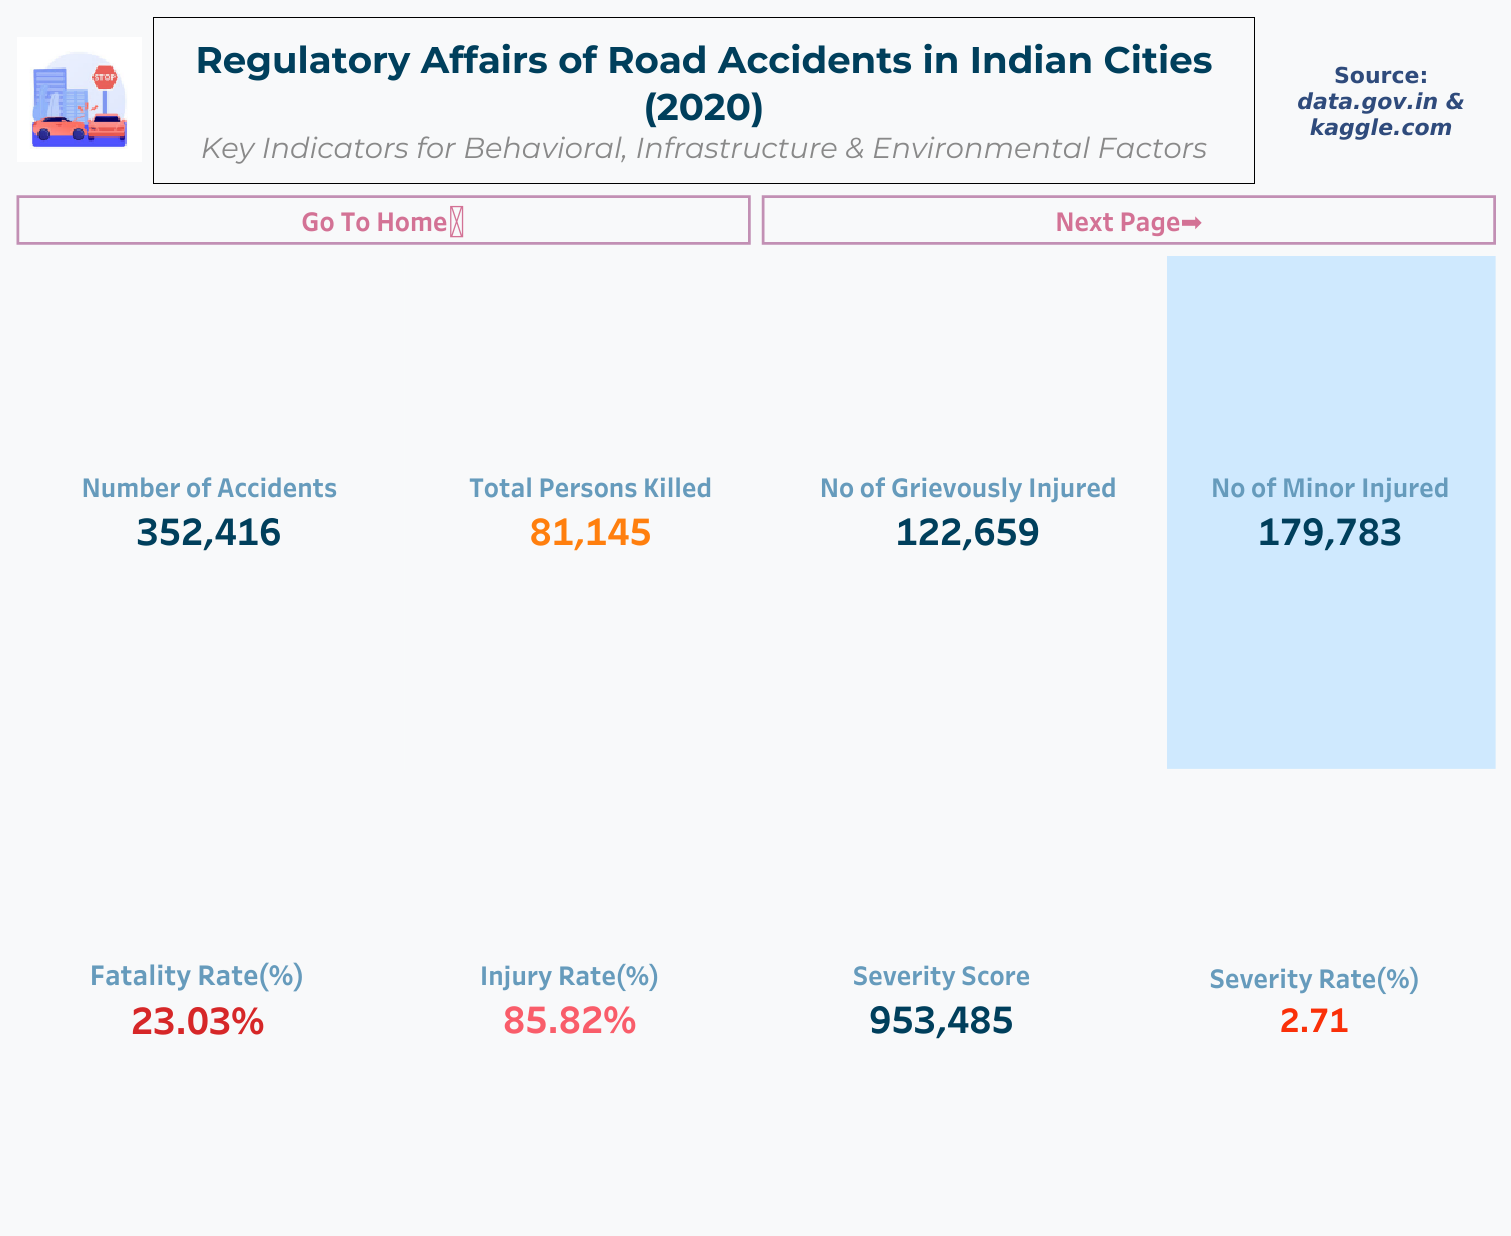

What the dashboard file says about the page in this screenshot:
{"tool":"tableau","page":{"name":"Dashboard: KPIs","canvas":[1100,900],"ordinal":1},"visuals":[{"type":"image","param":"Image/download.jpg","box":[8,8,99,130]},{"type":"text","box":[107,8,810,130]},{"type":"text","box":[917,8,175,130]},{"type":"dashboard-object","box":[8,138,542,44]},{"type":"dashboard-object","box":[550,138,542,44]},{"type":"worksheet","title":"Total no of accidents","mark":"Automatic","box":[8,182,288.8,381]},{"type":"worksheet","title":"Person Killed","mark":"Automatic","box":[296.8,182,266.2,381]},{"type":"worksheet","title":"Greviously Injured","mark":"Automatic","box":[563,182,282,381]},{"type":"worksheet","title":"Minor Injured","mark":"Automatic","box":[845,182,247,381]},{"type":"worksheet","title":"Fatality Rate","mark":"Automatic","box":[8,563,271,329]},{"type":"worksheet","title":"Injury Rate (%)","mark":"Automatic","box":[279,563,271,329]},{"type":"worksheet","title":"Severity Score","mark":"Automatic","box":[550,563,271,329]},{"type":"worksheet","title":"Severity Rate","mark":"Automatic","box":[821,563,271,329]}]}

Visuals, with their boxes in screenshot pixels (x1, y1, x2, y2), scaled from the page's 1100x900 canvas onto the 1511x1236 screenshot:
image: bbox=[11, 11, 147, 190]
text: bbox=[147, 11, 1260, 190]
text: bbox=[1260, 11, 1500, 190]
dashboard-object: bbox=[11, 190, 756, 250]
dashboard-object: bbox=[756, 190, 1500, 250]
"Total no of accidents" worksheet: bbox=[11, 250, 408, 773]
"Person Killed" worksheet: bbox=[408, 250, 773, 773]
"Greviously Injured" worksheet: bbox=[773, 250, 1161, 773]
"Minor Injured" worksheet: bbox=[1161, 250, 1500, 773]
"Fatality Rate" worksheet: bbox=[11, 773, 383, 1225]
"Injury Rate (%)" worksheet: bbox=[383, 773, 756, 1225]
"Severity Score" worksheet: bbox=[756, 773, 1128, 1225]
"Severity Rate" worksheet: bbox=[1128, 773, 1500, 1225]
